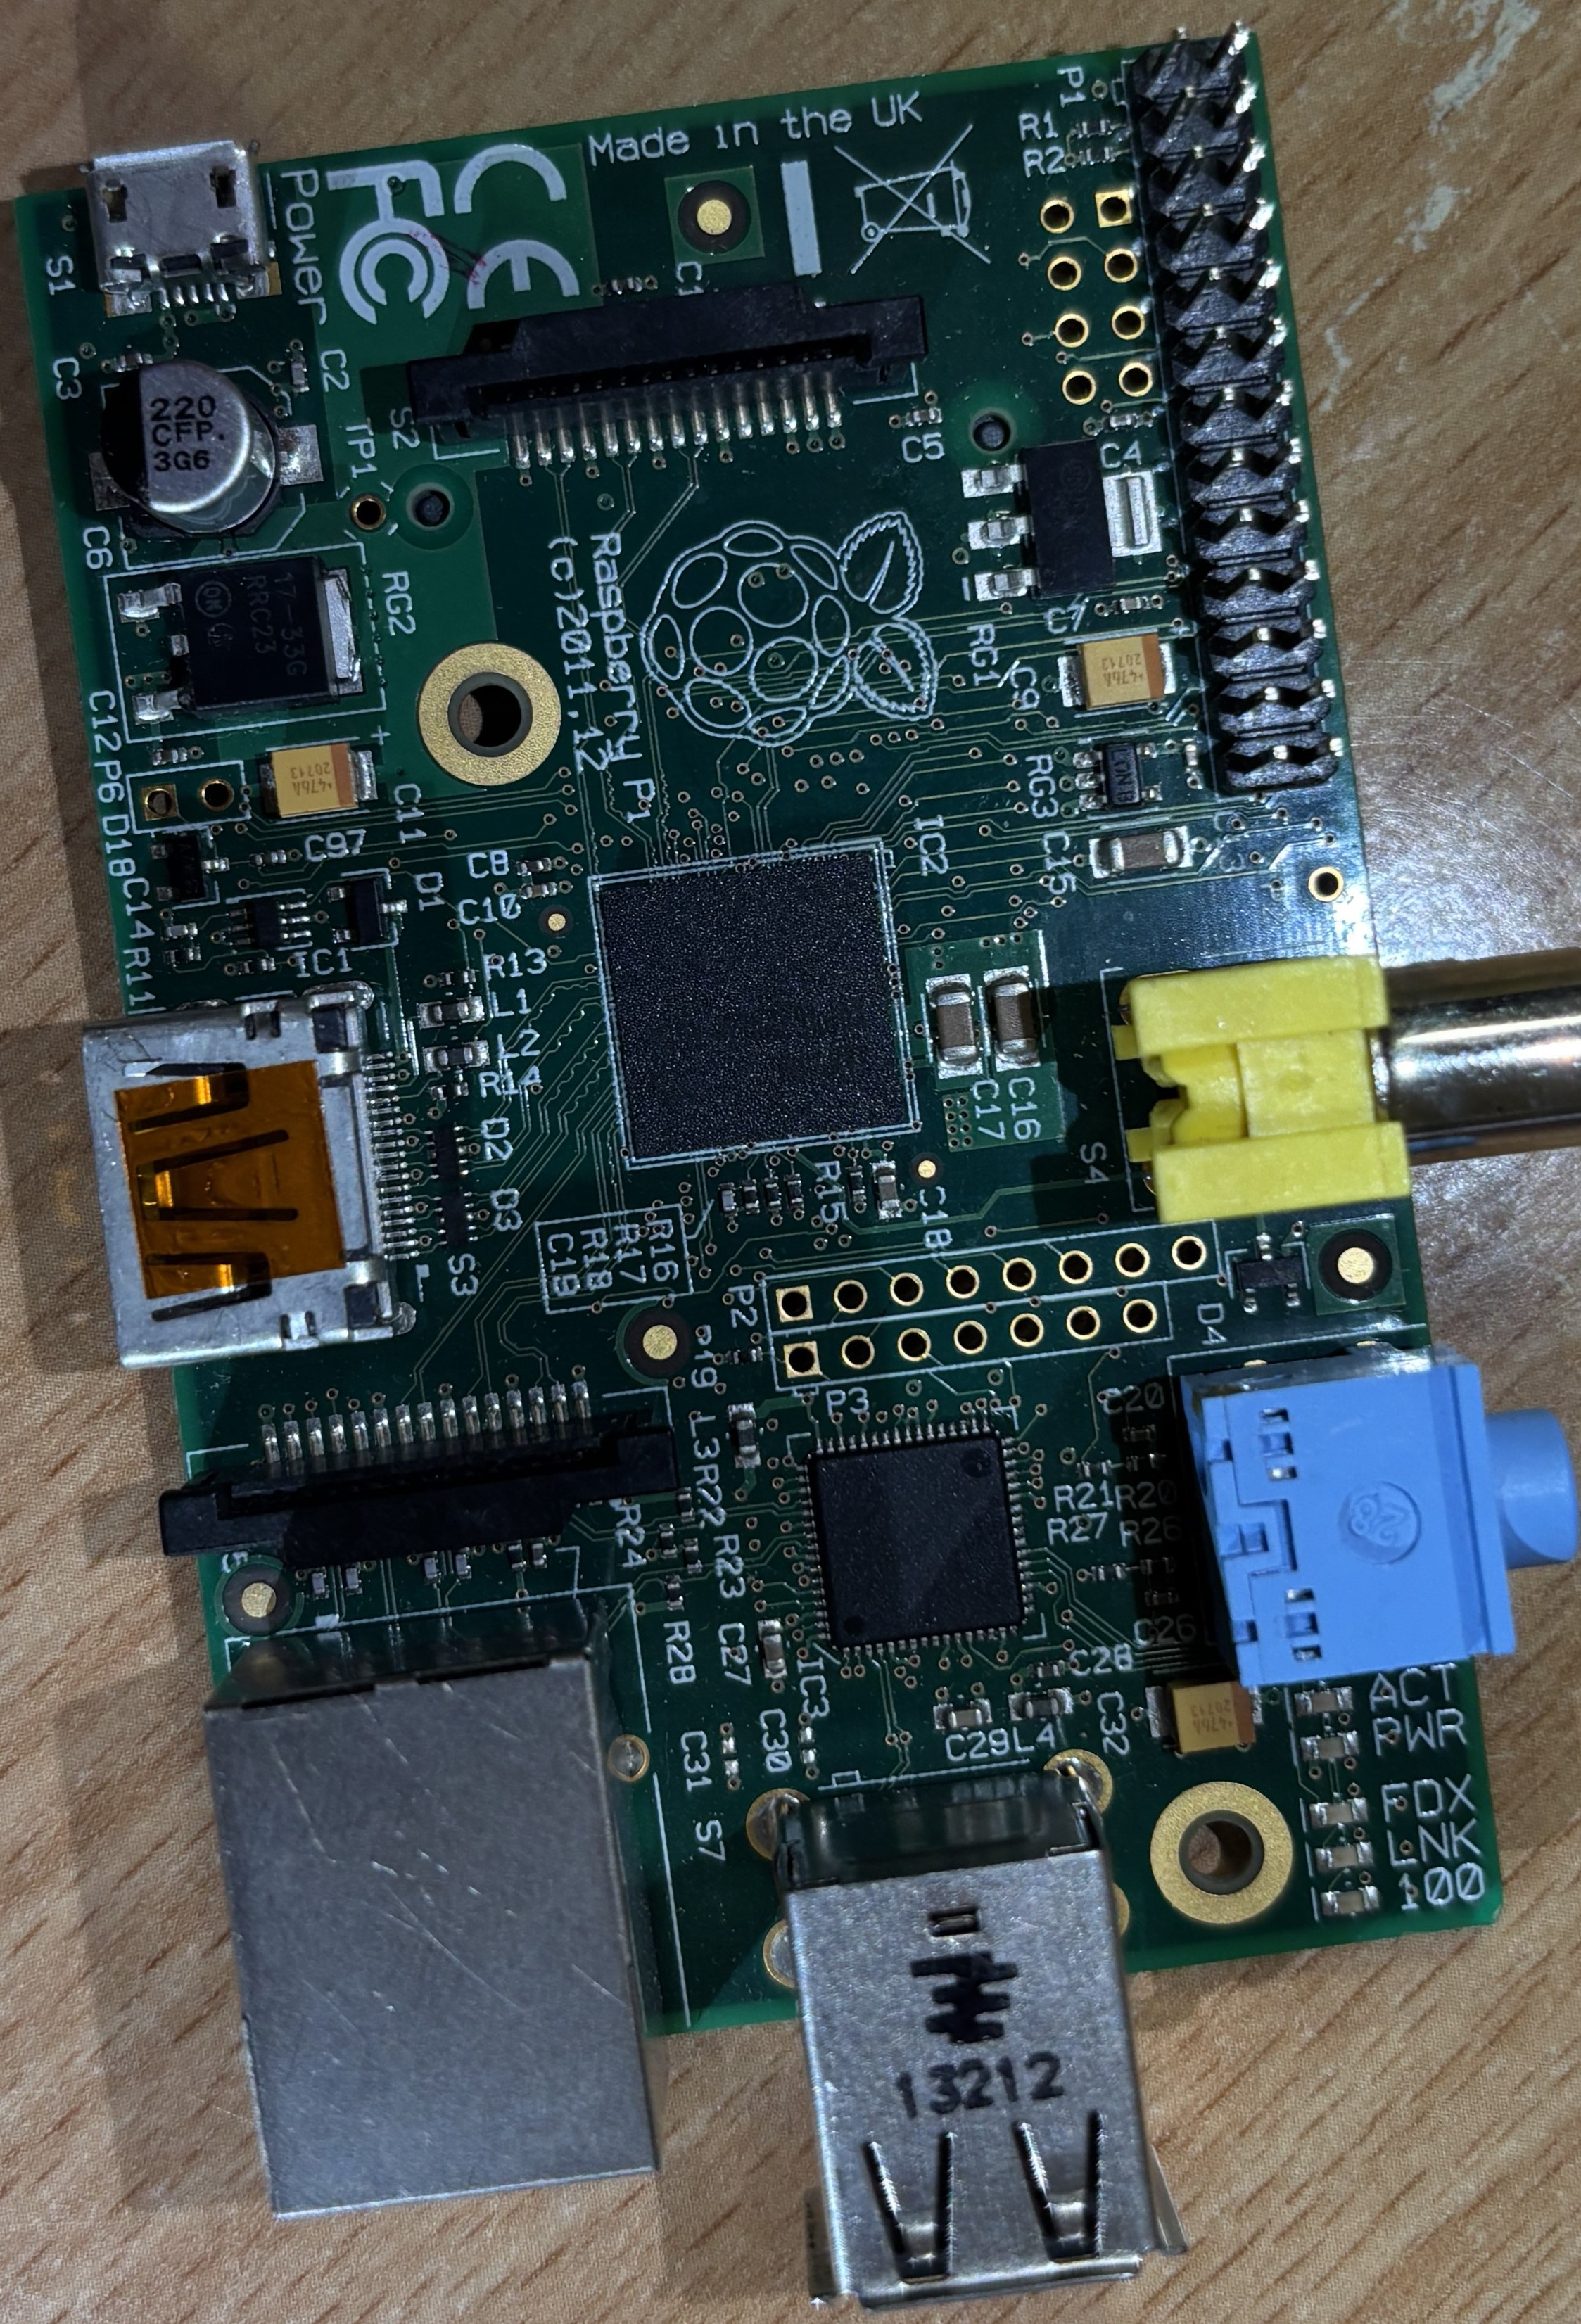Induktor: (731, 1415, 759, 1456), (431, 1046, 480, 1069), (425, 1001, 473, 1022)
